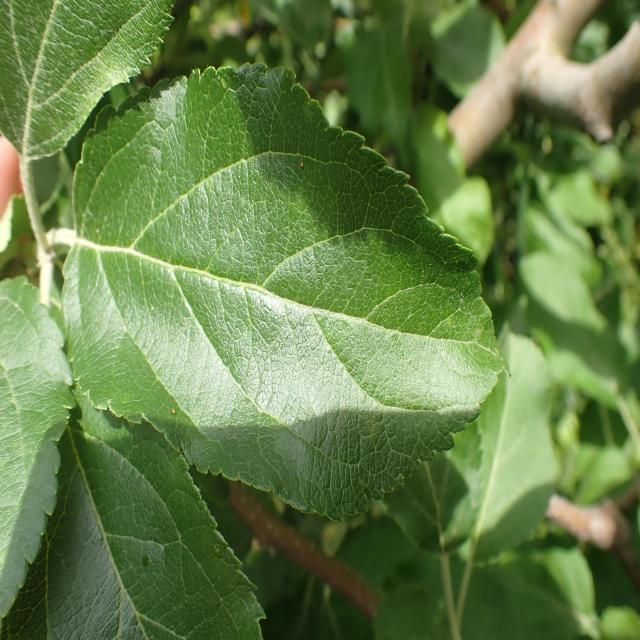healthy: (62, 62, 510, 522), (1, 398, 267, 640), (0, 0, 176, 160), (0, 276, 79, 618)
